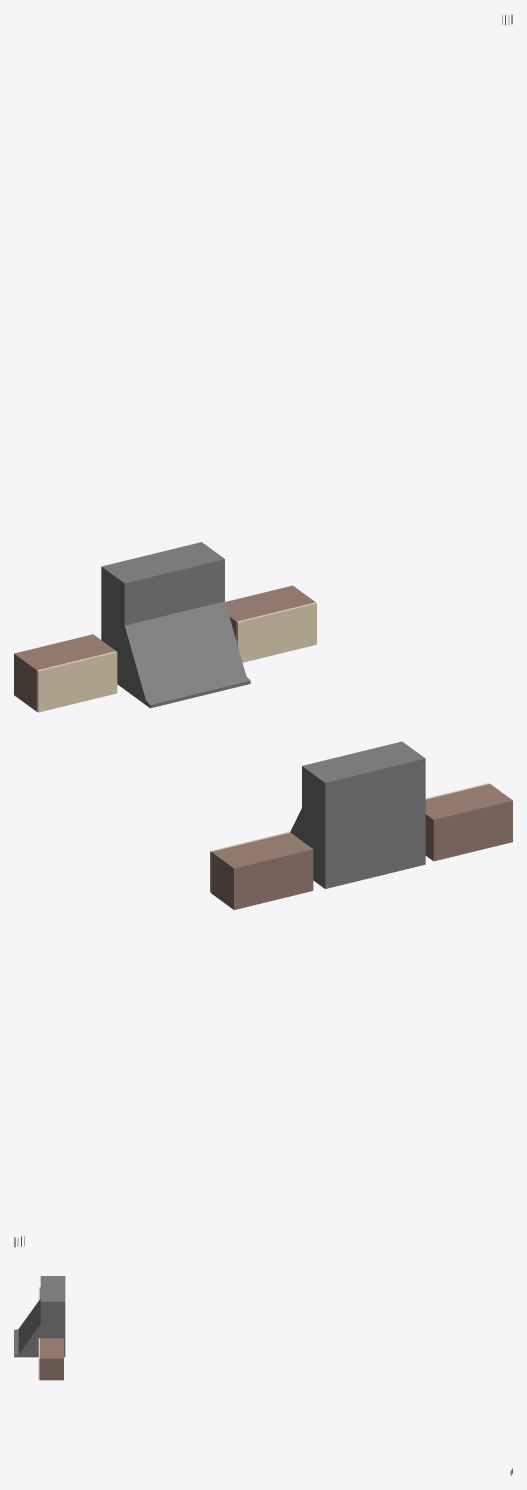
File: exhaustFan.glb
The picture shows the model from 3 angles, top to bottom: view 1: azimuth 30°, elevation 25°; view 2: azimuth 210°, elevation 25°; view 3: azimuth 270°, elevation 25°; orthographic projection. The views are drawn at different scales.
Visible parts, largest first — view 1: Mesh392__39685a22_6d8d_a64d_a25c_9d4903f497ee__0, Mesh373__a5a65e59_3c08_7641_9e6a_29d56862d182__0, Mesh376__a5a65e59_3c08_7641_9e6a_29d56862d182__0, Mesh375__aff33d8b_20c8_6545_ab7e_7bd022d90dd6__0, Mesh378__aff33d8b_20c8_6545_ab7e_7bd022d90dd6__0; view 2: Mesh392__39685a22_6d8d_a64d_a25c_9d4903f497ee__0, Mesh378__aff33d8b_20c8_6545_ab7e_7bd022d90dd6__0, Mesh375__aff33d8b_20c8_6545_ab7e_7bd022d90dd6__0; view 3: Mesh392__39685a22_6d8d_a64d_a25c_9d4903f497ee__0, Mesh378__aff33d8b_20c8_6545_ab7e_7bd022d90dd6__0.
Part boxes in pixels (x1,y1,x2,y2): Mesh392__39685a22_6d8d_a64d_a25c_9d4903f497ee__0: (101,542,250,708); Mesh373__a5a65e59_3c08_7641_9e6a_29d56862d182__0: (37,651,117,712); Mesh376__a5a65e59_3c08_7641_9e6a_29d56862d182__0: (236,602,316,662); Mesh375__aff33d8b_20c8_6545_ab7e_7bd022d90dd6__0: (14,634,115,711); Mesh378__aff33d8b_20c8_6545_ab7e_7bd022d90dd6__0: (225,585,315,640); Mesh392__39685a22_6d8d_a64d_a25c_9d4903f497ee__0: (290,741,425,888); Mesh378__aff33d8b_20c8_6545_ab7e_7bd022d90dd6__0: (211,832,313,909); Mesh375__aff33d8b_20c8_6545_ab7e_7bd022d90dd6__0: (425,784,512,861); Mesh392__39685a22_6d8d_a64d_a25c_9d4903f497ee__0: (14,1276,65,1357); Mesh378__aff33d8b_20c8_6545_ab7e_7bd022d90dd6__0: (40,1338,63,1380).
Size of the model in its own units: 276 by 40.68 by 246.
